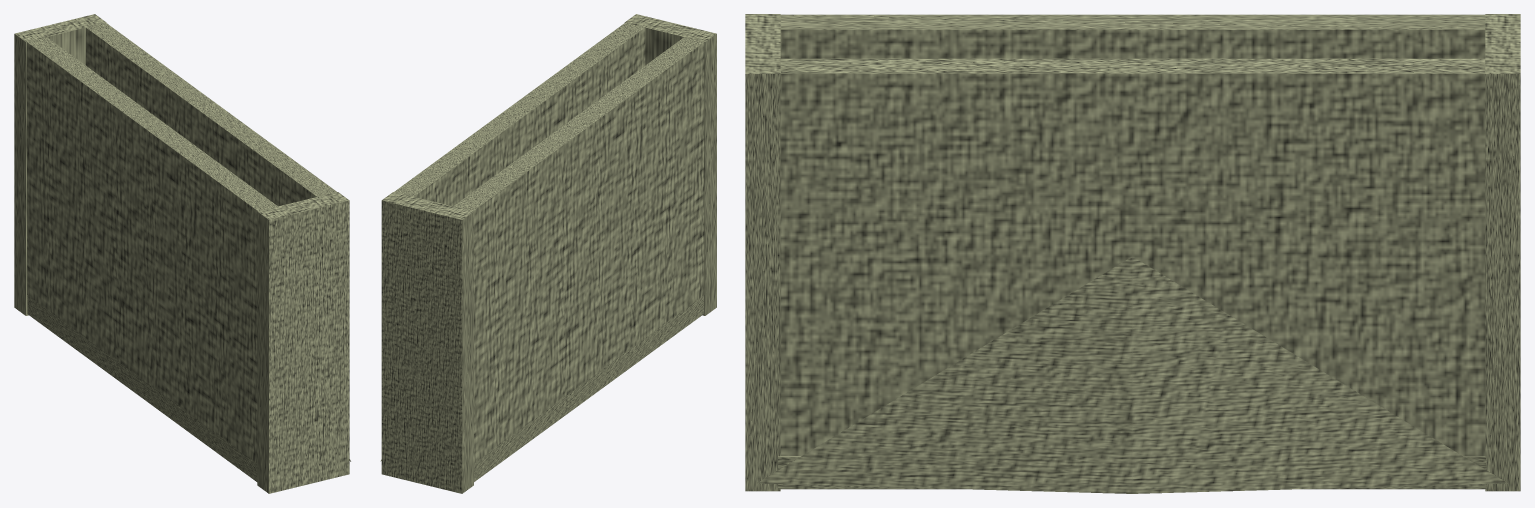
The model's file is EnvelopePrefab.fbx.
3 views of the same model, side by side, from view 1: azimuth 30°, elevation 25°; view 2: azimuth 150°, elevation 25°; view 3: azimuth 270°, elevation 25° (orthographic). The views are drawn at different scales.
Parts seen in each view (by area): view 1: pCube4, pCube5, pCube2, pCube1, pCube3; view 2: pCube4, pCube1, pCube2, pCube5, pCube3; view 3: pCube2, pPyramid2, pCube4, pCube1, pCube5, pCube3.
Boxes of the visible parts, x1,y1,x2,y2 form: pCube4: (27,37,277,462); pCube5: (257,192,349,493); pCube2: (86,23,336,206); pCube1: (14,14,106,315); pCube3: (27,295,257,481); pCube4: (453,37,704,463); pCube1: (381,192,473,493); pCube2: (394,22,645,206); pCube5: (624,14,716,315); pCube3: (474,295,703,481); pCube2: (780,58,1485,455); pPyramid2: (757,256,1507,493); pCube4: (780,14,1485,58); pCube1: (1485,14,1520,491); pCube5: (745,14,780,491); pCube3: (778,456,1486,489).
Bounding box in the file's own units: 0.4991 × 1.3 × 2.19.
